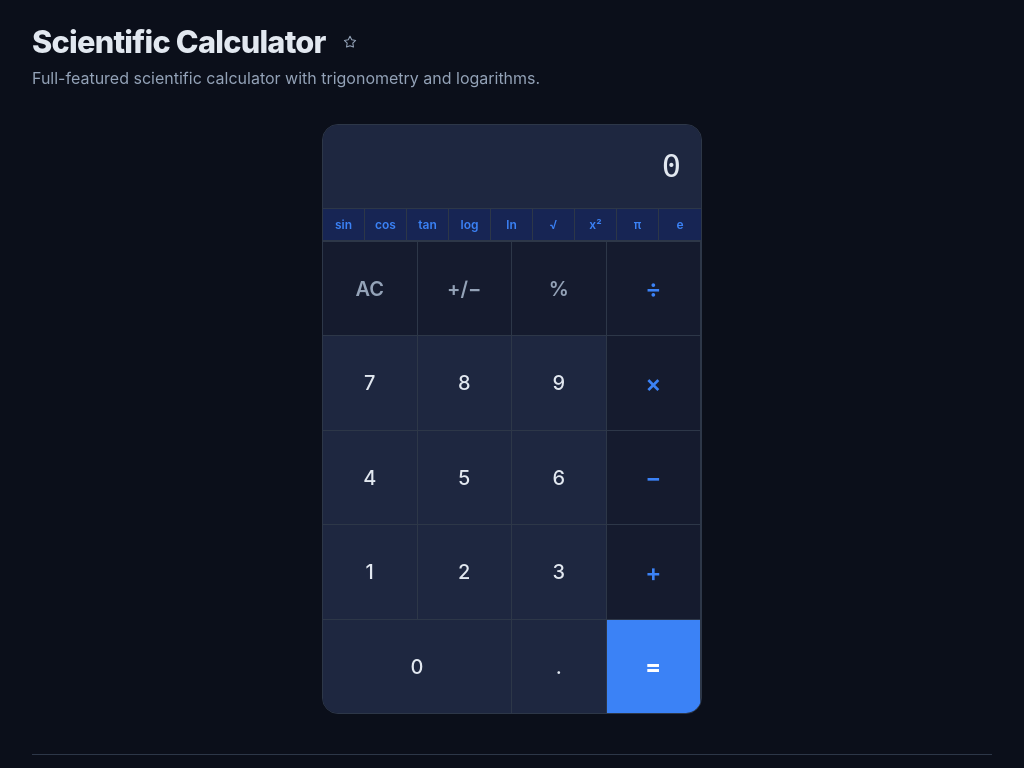
Test: ScientificCalc › clicking AC clears the display
Click the button "9".
click(559, 383)  # box x1=512 y1=335 x2=606 y2=430
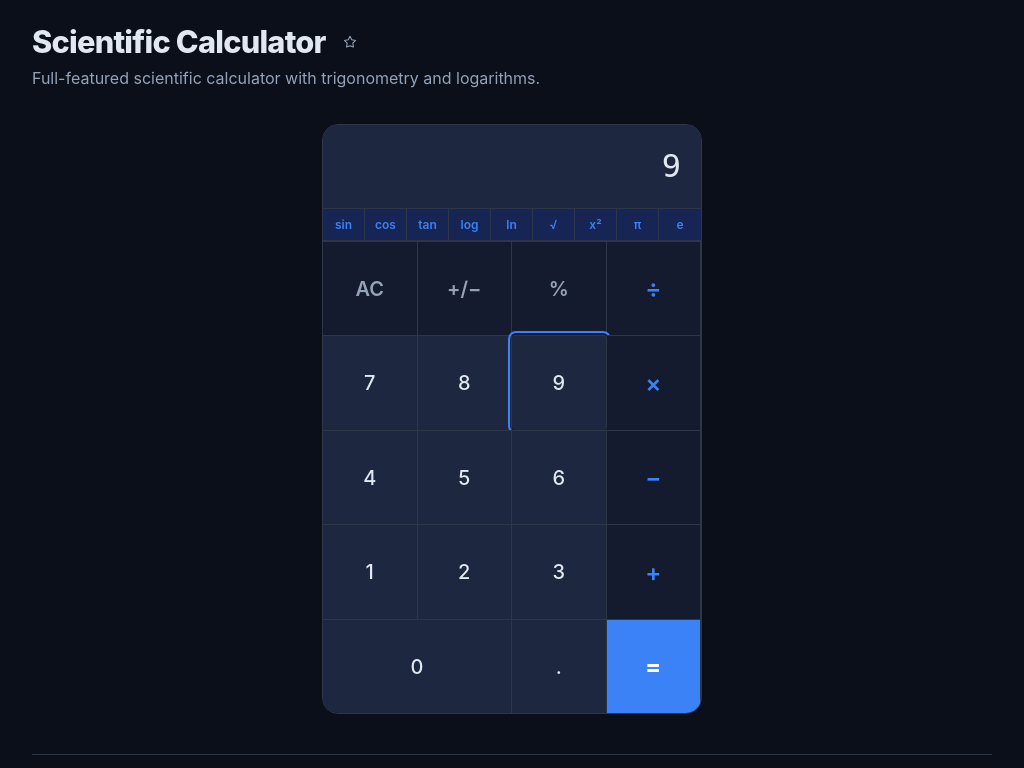
Click the button "AC".
click(370, 288)  # box x1=323 y1=241 x2=418 y2=335
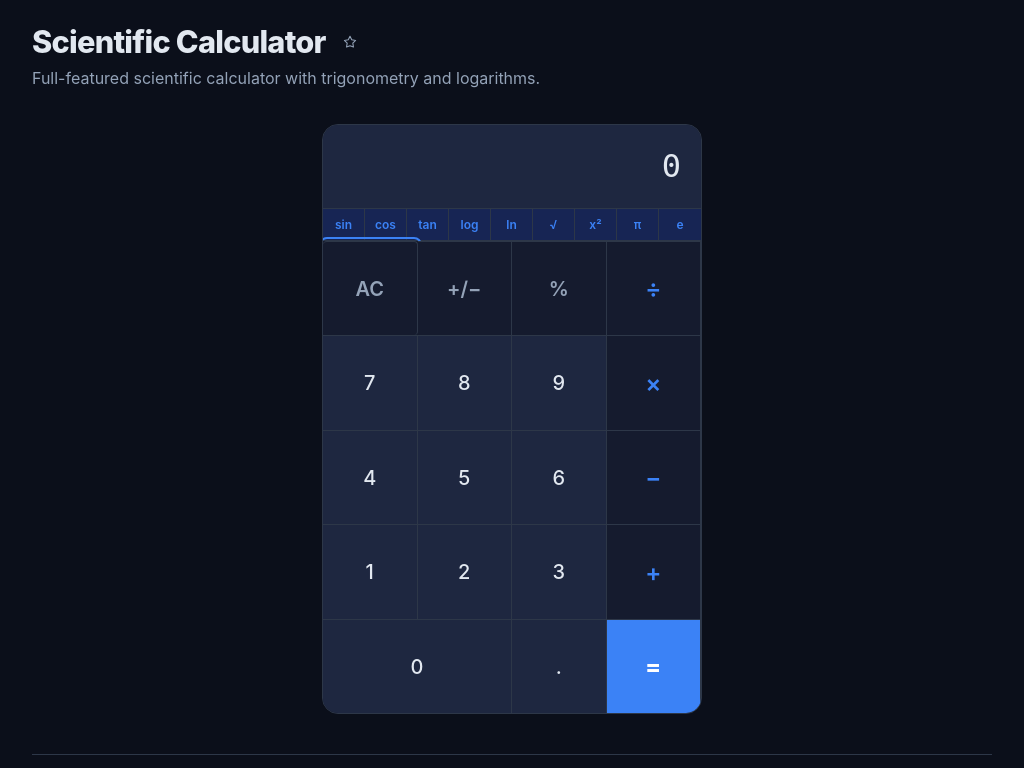
Expected: the field named "Display" reads "0", x1=662 y1=147 x2=681 y2=185
